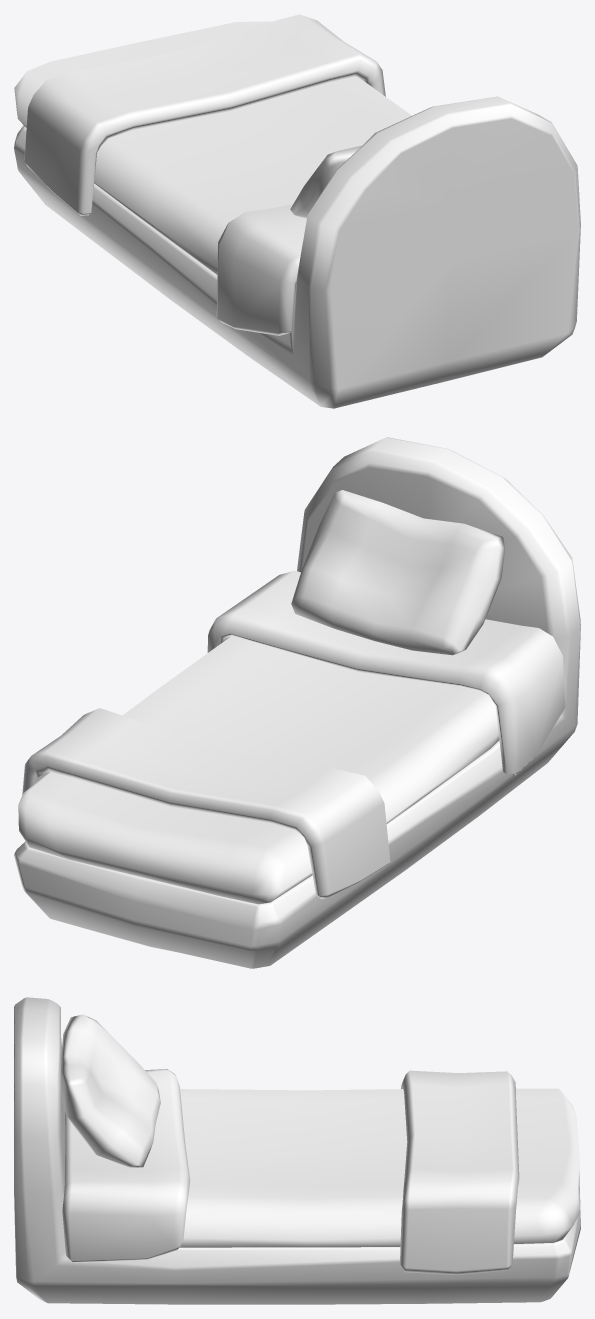
File: P_StoneBedSingle.glb
3 renders of one model, top to bottom at view 1: azimuth 30°, elevation 25°; view 2: azimuth 150°, elevation 25°; view 3: azimuth 270°, elevation 25°, orthographic. The views are drawn at different scales.
Parts seen in each view (by area): view 1: P_StoneBedSingle; view 2: P_StoneBedSingle; view 3: P_StoneBedSingle.
Part boxes in pixels (left/top/right/bottom): P_StoneBedSingle: left=14, top=14, right=580, bottom=408; P_StoneBedSingle: left=14, top=437, right=580, bottom=968; P_StoneBedSingle: left=14, top=997, right=580, bottom=1304.
Size of the model in its own units: 1.16 by 0.9885 by 2.02.
1 material, 1 textured.
